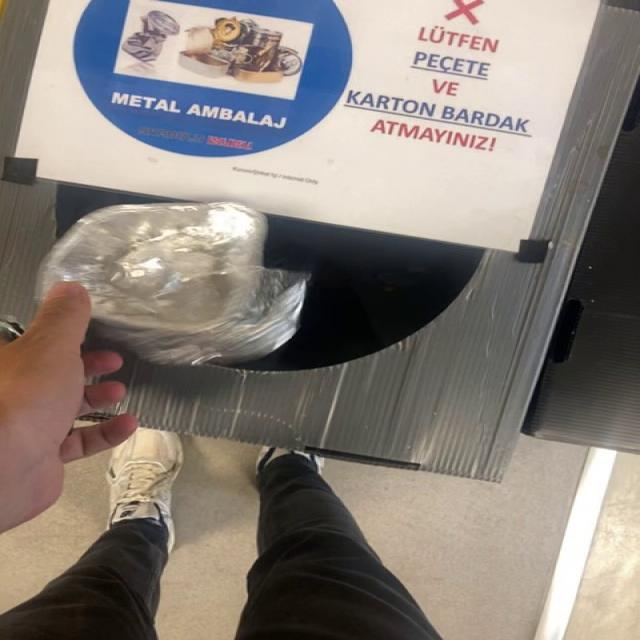metal: (39, 203, 305, 364)
